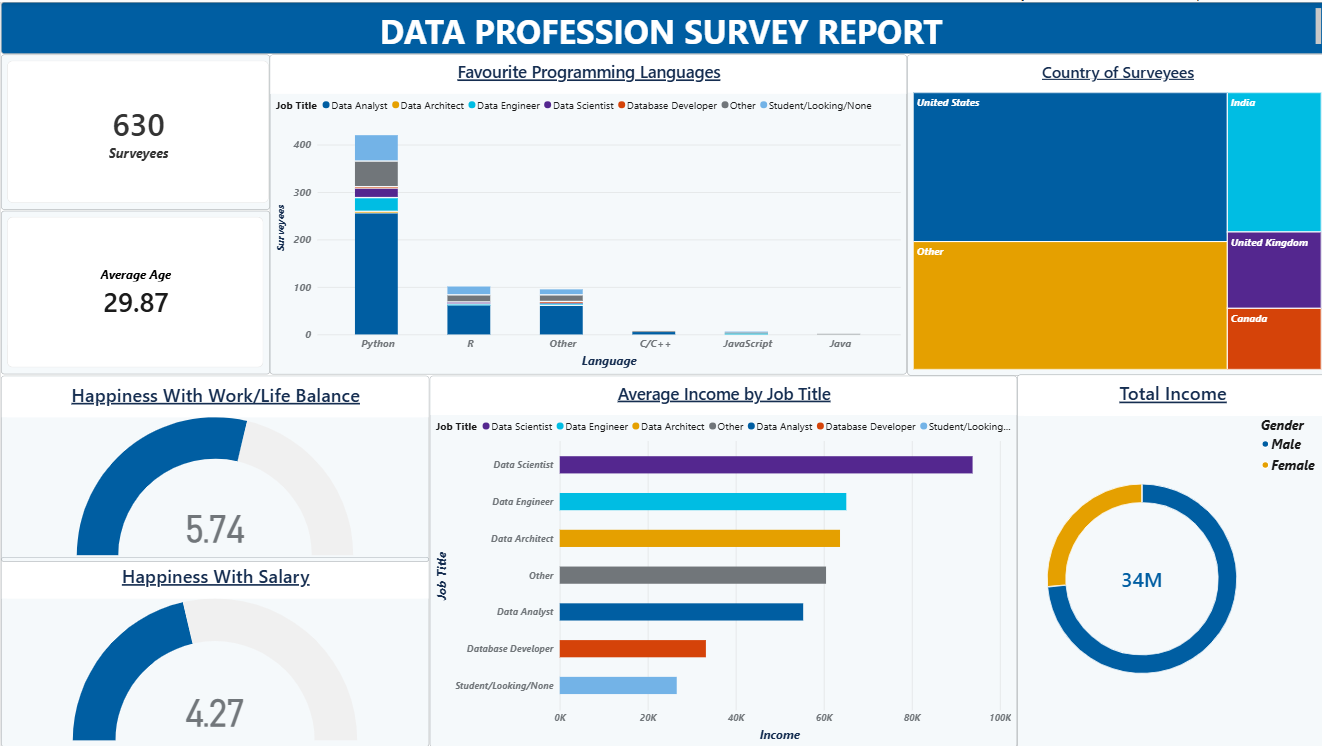

Layout of this report page (visuals, bound fields, positions):
{"tool":"powerbi","page":{"name":"Page 1","canvas":[1920,1080],"ordinal":0},"visuals":[{"type":"textbox","box":[0,0,1920.4,75.6],"z":0},{"type":"cardVisual","fields":{"Data":["CountNonNull(Data Professional Survey.Unique ID)"]},"box":[0,75.6,389.5,224.8],"z":1000},{"type":"cardVisual","fields":{"Data":["Avg(Data Professional Survey.Q10 - Current Age)"]},"box":[0,302.3,389.5,236.4],"z":2000},{"type":"barChart","title":"Average Income by Job Title","fields":{"Category":["Data Professional Survey.Q1 - Which Title Best Fits your Current Role?.1"],"Series":["Data Professional Survey.Q1 - Which Title Best Fits your Current Role?.1"],"Y":["Avg(Data Professional Survey.Average Income)"]},"box":[620.1,540.7,850.7,538.7],"z":3000},{"type":"columnChart","title":"Favourite Programming Languages","fields":{"Category":["Data Professional Survey.Q5 - Favorite Programming Language.1"],"Series":["Data Professional Survey.Q1 - Which Title Best Fits your Current Role?.1"],"Y":["CountNonNull(Data Professional Survey.Unique ID)"]},"box":[389.5,75.6,922.4,463.1],"z":4000},{"type":"treemap","title":"Country of Surveyees","fields":{"Group":["Data Professional Survey.Q11 - Which Country do you live in?.1"],"Values":["CountNonNull(Data Professional Survey.Q11 - Which Country do you live in?.1)"]},"box":[1311.9,75.6,608.5,465.1],"z":5000},{"type":"gauge","title":"Happiness With Salary","fields":{"MaxValue":["Max(Data Professional Survey.Q6 - How Happy are you in your Current Position with the following? (Salary))"],"MinValue":["Min(Data Professional Survey.Q6 - How Happy are you in your Current Position with the following? (Salary))"],"Y":["Avg(Data Professional Survey.Q6 - How Happy are you in your Current Position with the following? (Salary))"]},"box":[0,804.2,620.1,275.2],"z":6000},{"type":"gauge","title":"Happiness With Work/Life Balance","fields":{"MaxValue":["Max(Data Professional Survey.Q6 - How Happy are you in your Current Position with the following? (Work/Life Balance))"],"MinValue":["Min(Data Professional Survey.Q6 - How Happy are you in your Current Position with the following? (Work/Life Balance))"],"Y":["Avg(Data Professional Survey.Q6 - How Happy are you in your Current Position with the following? (Work/Life Balance))"]},"box":[0,540.7,620.1,269.4],"z":7000},{"type":"donutChart","title":"Total Income","fields":{"Category":["Data Professional Survey.Q9 - Male/Female?"],"Y":["Sum(Data Professional Survey.Average Income)"]},"box":[1470.8,538.7,449.6,540.7],"z":8000}]}

Visuals, with their boxes in screenshot pixels (x1, y1, x2, y2), scaled from the page's 1920x1080 canvas onto the 1322x746 screenshot:
textbox: x1=0, y1=0, x2=1321, y2=52
cardVisual - CountNonNull(Data Professional Survey.Unique ID): x1=0, y1=52, x2=268, y2=207
cardVisual - Avg(Data Professional Survey.Q10 - Current Age): x1=0, y1=209, x2=268, y2=372
"Average Income by Job Title" barChart: x1=427, y1=373, x2=1013, y2=745
"Favourite Programming Languages" columnChart: x1=268, y1=52, x2=903, y2=372
"Country of Surveyees" treemap: x1=903, y1=52, x2=1321, y2=373
"Happiness With Salary" gauge: x1=0, y1=555, x2=427, y2=745
"Happiness With Work/Life Balance" gauge: x1=0, y1=373, x2=427, y2=560
"Total Income" donutChart: x1=1013, y1=372, x2=1321, y2=745
